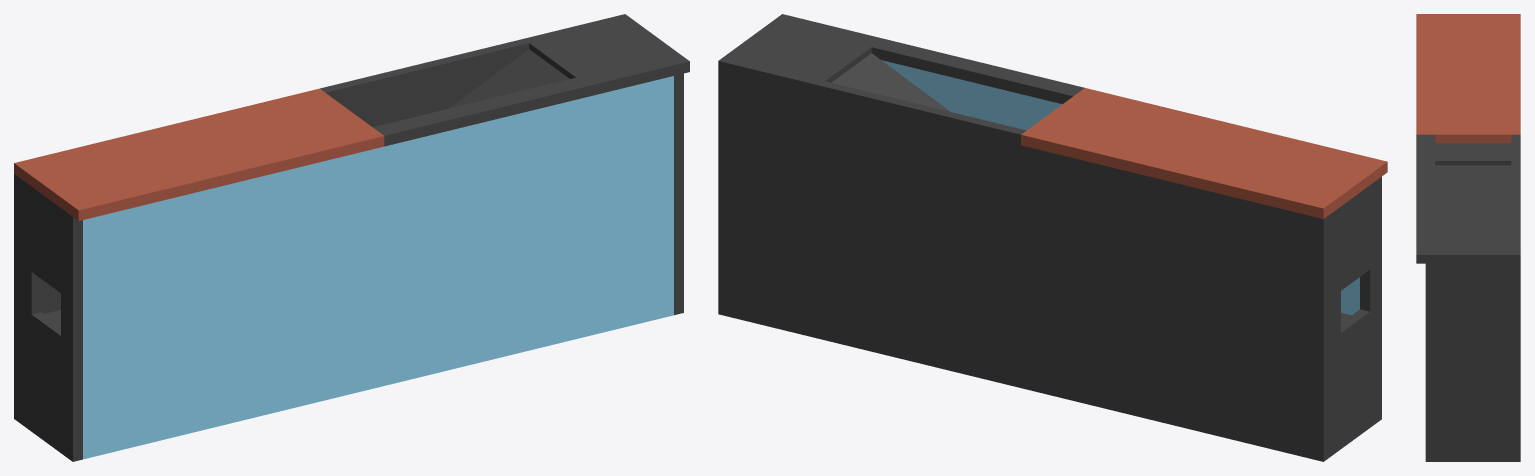
The model's file is Bokhylla.fbx.
3 views of the same model, side by side, from view 1: azimuth 30°, elevation 25°; view 2: azimuth 150°, elevation 25°; view 3: azimuth 270°, elevation 25° (orthographic). The views are drawn at different scales.
Visible parts, largest first — view 1: Cube__2_, Cube__4_, Cube__6_, Cube__1_, Cube, Cube__9_, Cube__13_, Cube__14_, Cube__12_, Cube__3_, Cube__11_, Cube__10_; view 2: Cube, Cube__4_, Cube__6_, Cube__1_, Cube__2_, Cube__9_, Cube__13_, Cube__14_, Cube__12_, Cube__11_; view 3: Cube__3_, Cube__4_, Cube__6_, Cube__7_, Cube, Cube__8_, Cube__13_, Cube__14_.
Boxes of the visible parts, x1,y1,x2,y2 form: Cube__2_: (83, 76, 673, 459); Cube__4_: (14, 88, 384, 220); Cube__6_: (523, 14, 689, 96); Cube__1_: (20, 306, 82, 461); Cube: (14, 56, 518, 422); Cube__9_: (20, 178, 82, 301); Cube__13_: (373, 77, 587, 146); Cube__14_: (320, 39, 529, 100); Cube__12_: (449, 49, 569, 108); Cube__3_: (674, 73, 683, 315); Cube__11_: (61, 293, 82, 344); Cube__10_: (20, 263, 41, 314); Cube: (718, 71, 1329, 461); Cube__4_: (1021, 88, 1387, 218); Cube__6_: (718, 14, 882, 95); Cube__1_: (1329, 303, 1381, 457); Cube__2_: (881, 60, 1359, 315); Cube__9_: (1329, 176, 1381, 298); Cube__13_: (871, 38, 1084, 104); Cube__14_: (819, 81, 1026, 145); Cube__12_: (831, 53, 950, 111); Cube__11_: (1360, 261, 1381, 311); Cube__3_: (1425, 263, 1511, 461); Cube__4_: (1416, 14, 1520, 143); Cube__6_: (1416, 215, 1520, 263); Cube__7_: (1435, 165, 1511, 214); Cube: (1511, 263, 1520, 461); Cube__8_: (1435, 143, 1511, 165); Cube__13_: (1416, 134, 1435, 214); Cube__14_: (1511, 134, 1520, 214).
Size of the model in its own units: 3000 by 1200 by 550.
